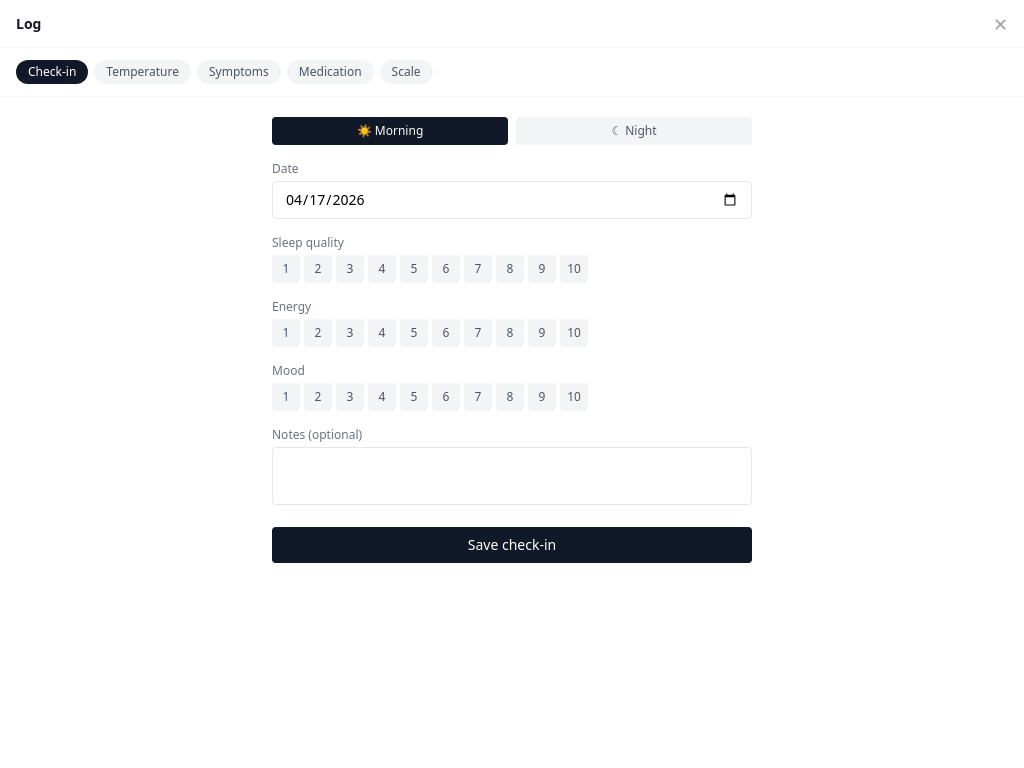
Test: CaptureSurface › clicking a different section tab switches the active form
The image size is (1024, 768).
# Click symptom
Click the button "Symptoms": (239, 72) [197,60,281,84]
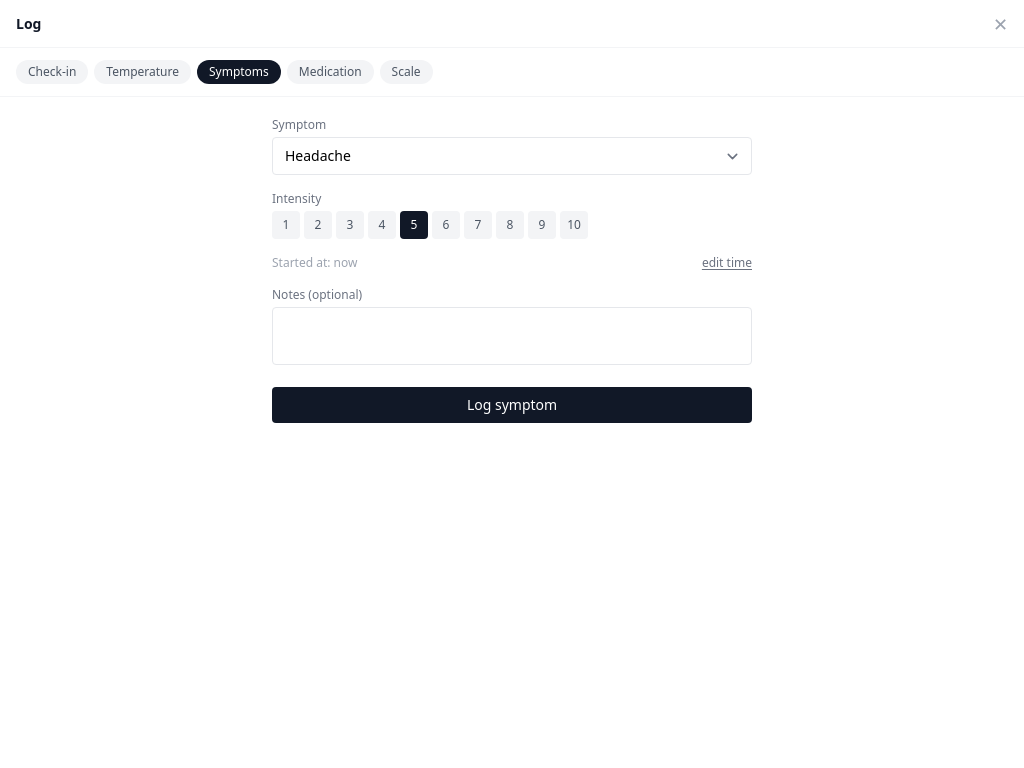
Expected: the form with test id "capture-symptom-form" is shown, [272,117,752,423]
